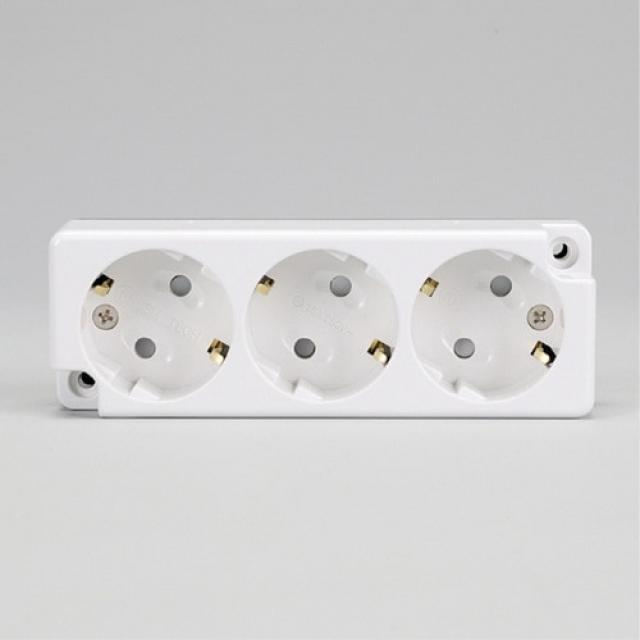typeb: (41, 206, 616, 450)
